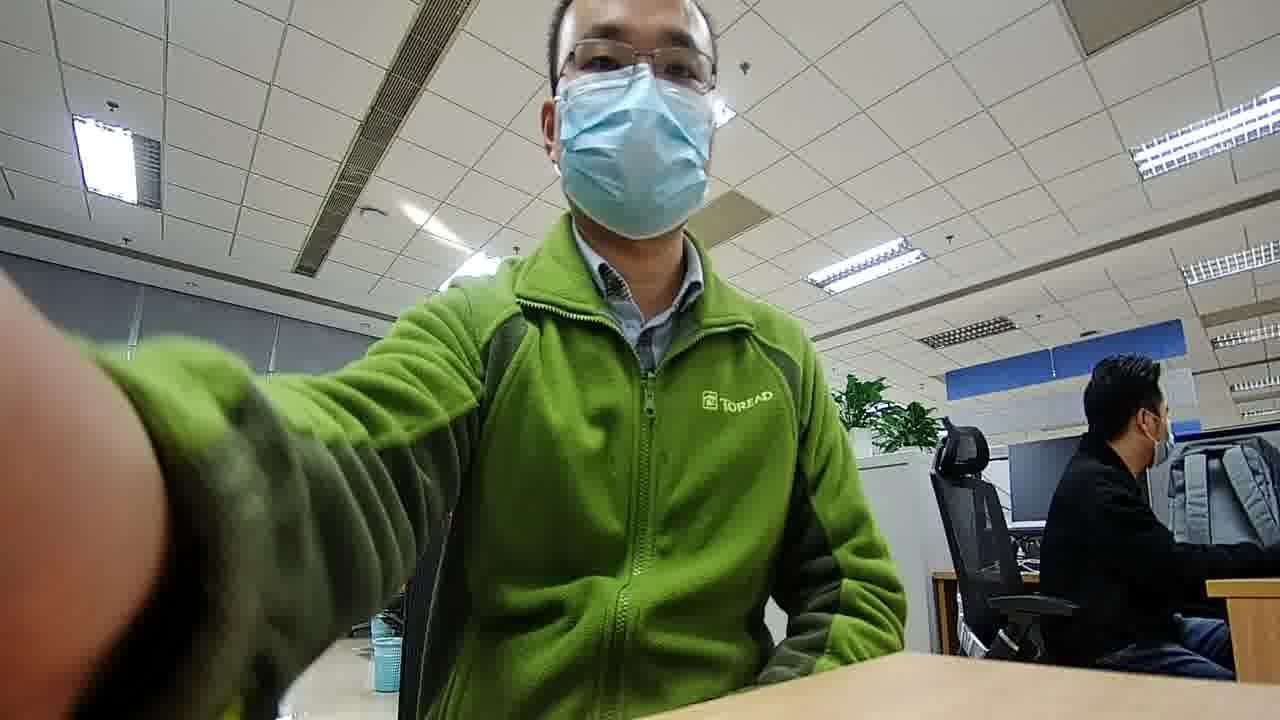face: (556, 3, 712, 242), (1145, 394, 1180, 469)
mask: (556, 64, 709, 236), (1152, 421, 1176, 466)
person: (383, 1, 826, 415), (1051, 356, 1179, 523)
